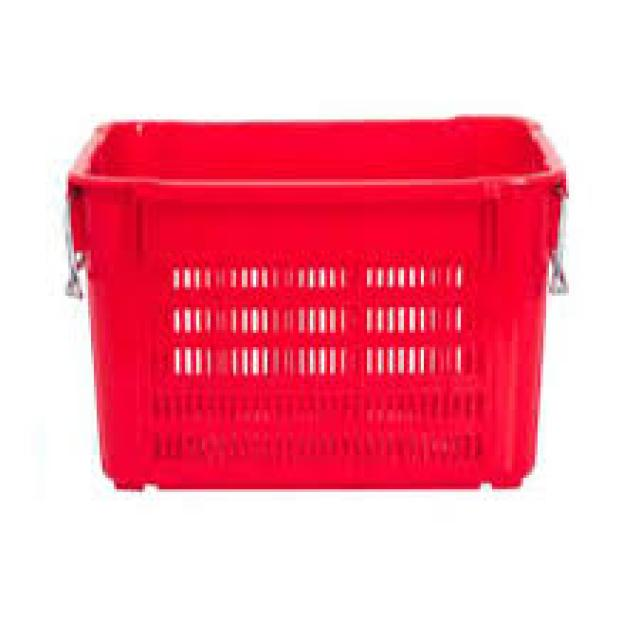basket: (68, 122, 570, 489)
